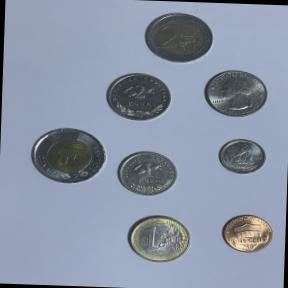coin: (22, 122, 112, 189), (139, 7, 215, 69), (101, 69, 176, 125), (122, 209, 194, 266), (199, 66, 271, 121), (217, 211, 276, 256), (213, 134, 270, 178)
